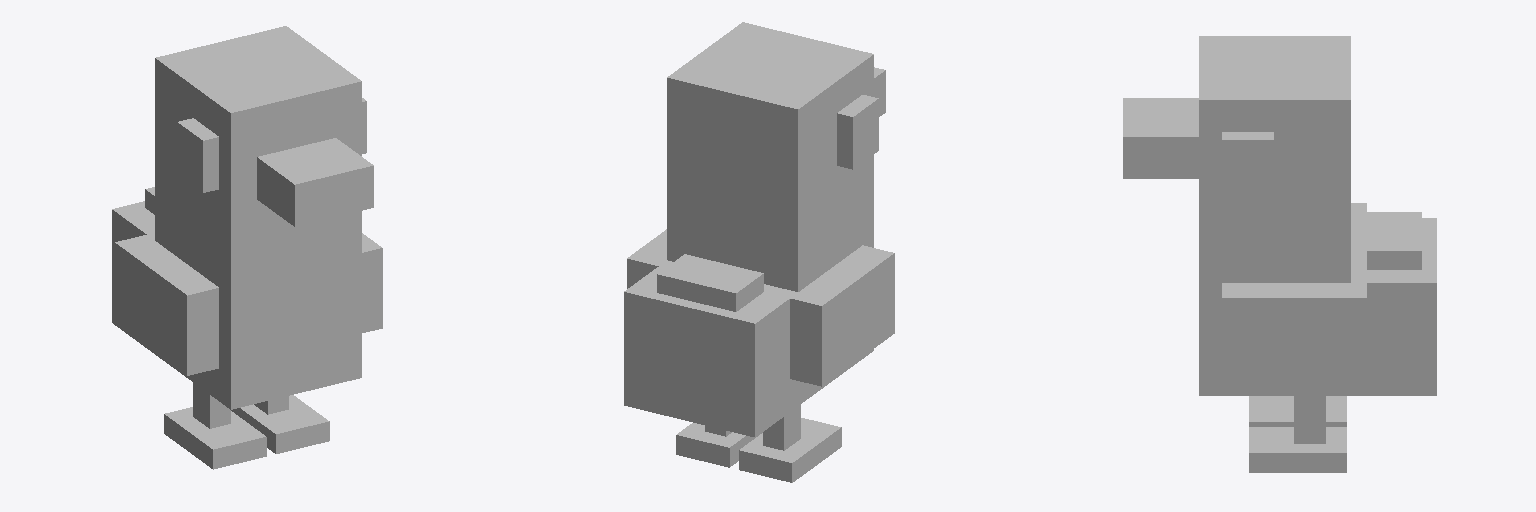
File: Duck.obj
The picture shows the model from 3 angles: view 1: azimuth 30°, elevation 25°; view 2: azimuth 150°, elevation 25°; view 3: azimuth 270°, elevation 25°; orthographic projection.
Parts seen in each view (by area): view 1: pCube1; view 2: pCube1; view 3: pCube1.
Part boxes in pixels (left/top/right/bottom): pCube1: left=112, top=26, right=382, bottom=469; pCube1: left=624, top=22, right=894, bottom=482; pCube1: left=1123, top=36, right=1436, bottom=472.
Bounding box in the file's own units: 1.49 × 2.74 × 2.07.